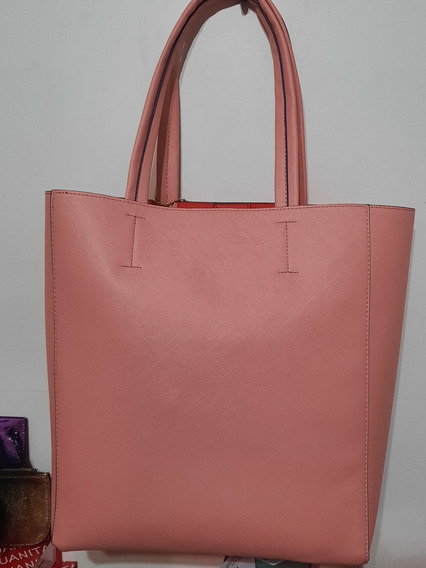cartera: (39, 3, 417, 563)
